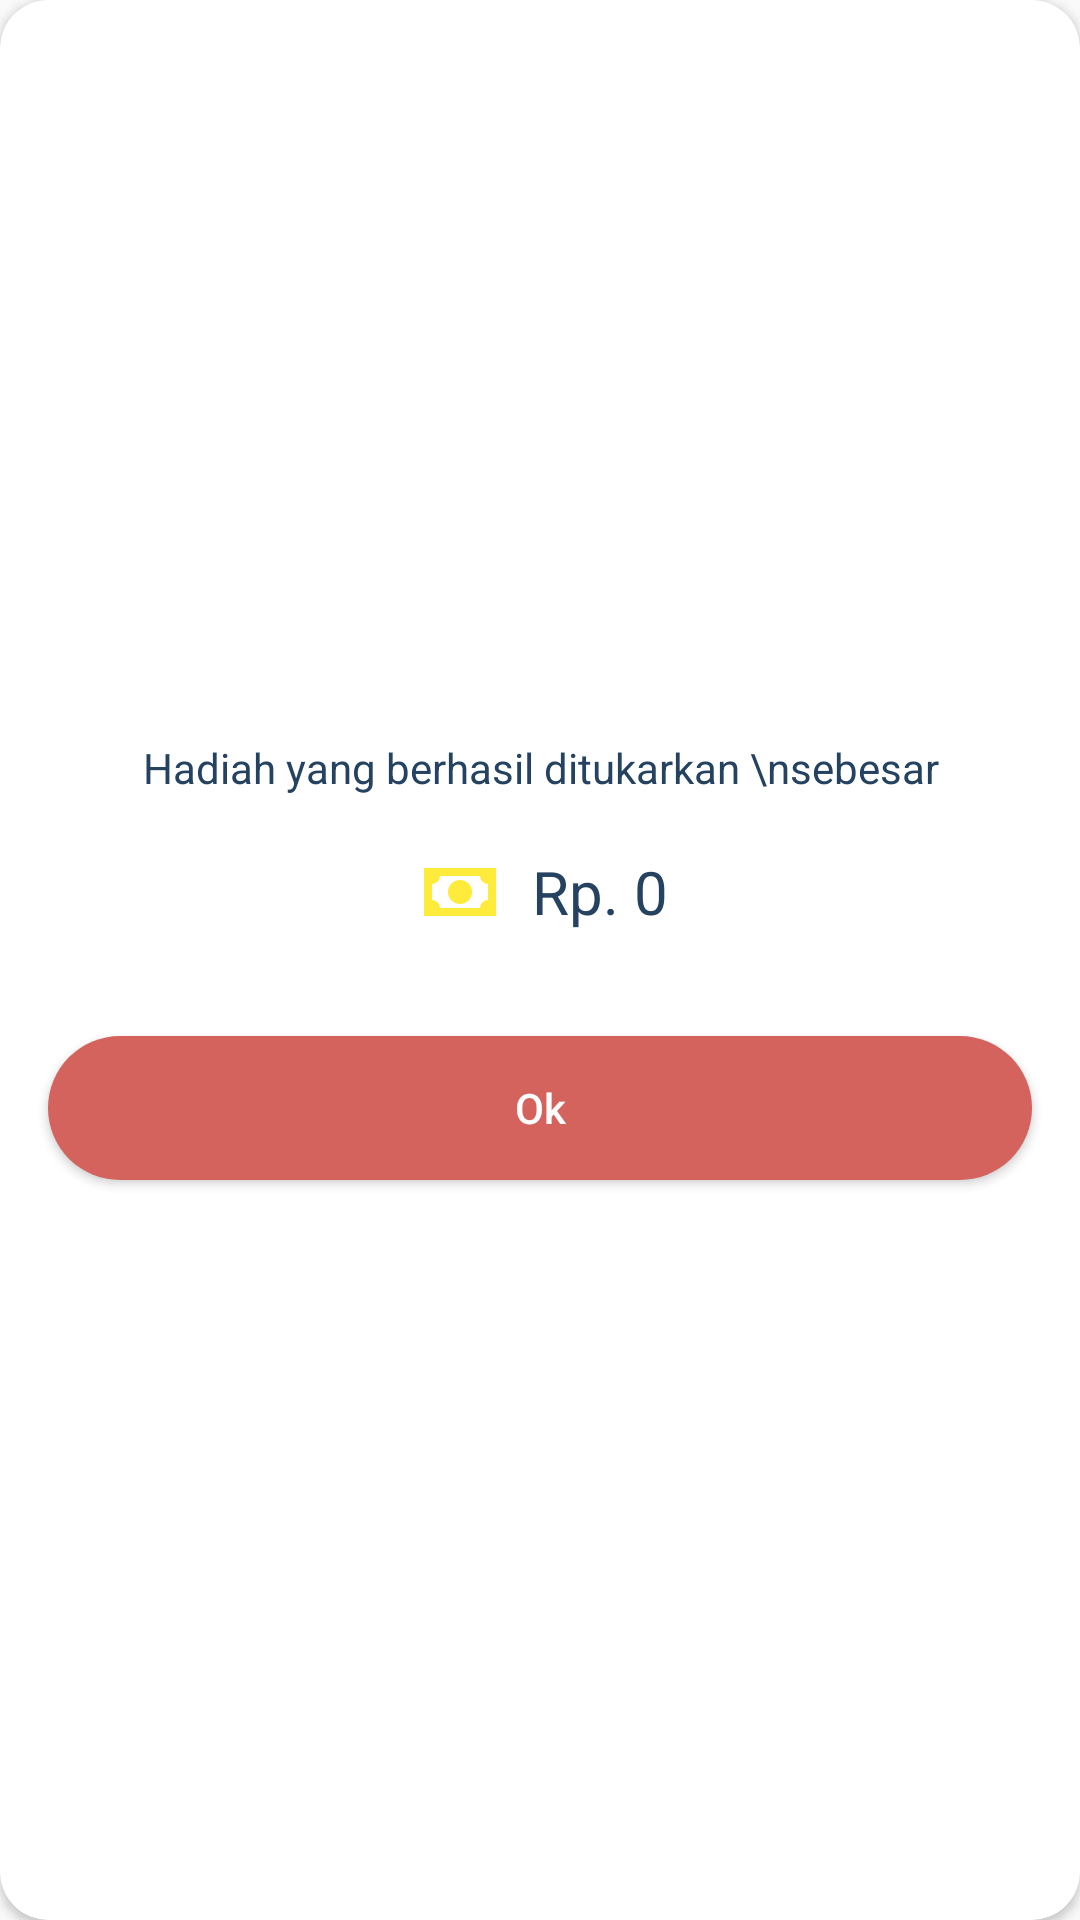

Icon bounding boxes for this 1080×1920 phone screenshot, format (x1, y1, x2, y2):
cash: (424, 868, 496, 916)
